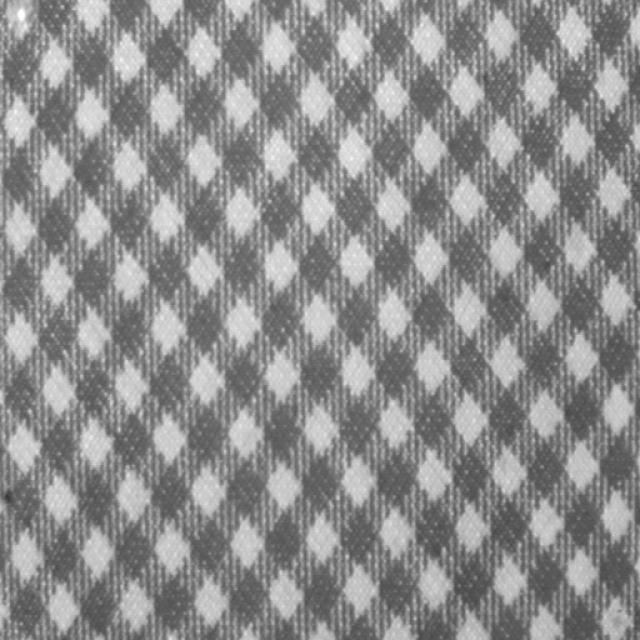Hole-Defect: (8, 0, 32, 20)
